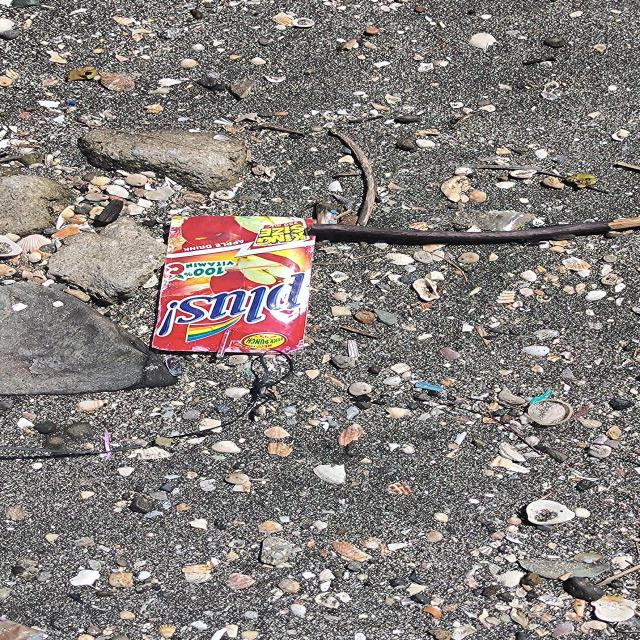plastic_waste: (152, 217, 319, 356)
